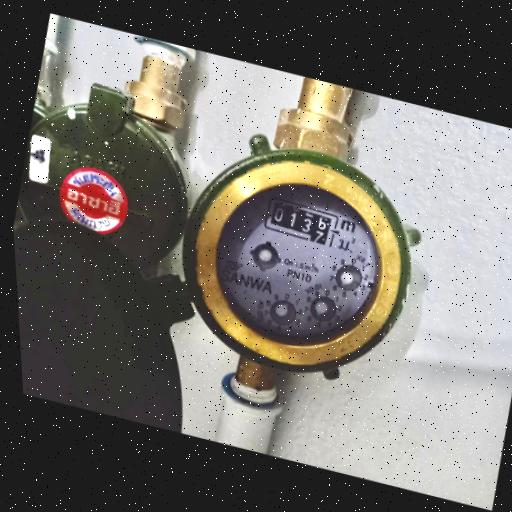0: (268, 200, 290, 227)
1: (281, 204, 303, 230)
3: (295, 209, 317, 235)
6: (307, 212, 334, 245)
border_water_meter_number: (260, 193, 341, 248)
